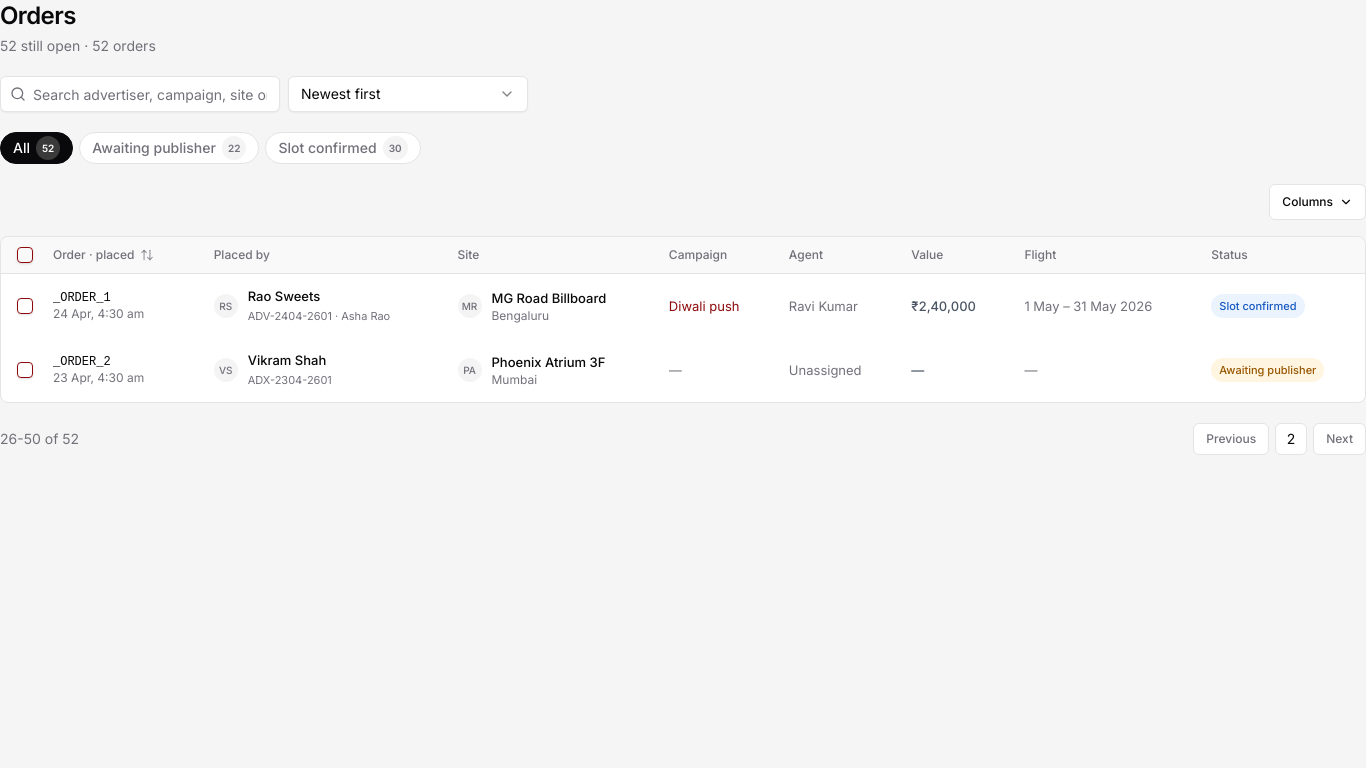
Scenario: held for review › holds the ticked orders with a reason through the bulk route, keeps the failure ticked and reloads
Click the checkbox named "Select all rows".
click(25, 255)  # box x1=17 y1=247 x2=33 y2=263
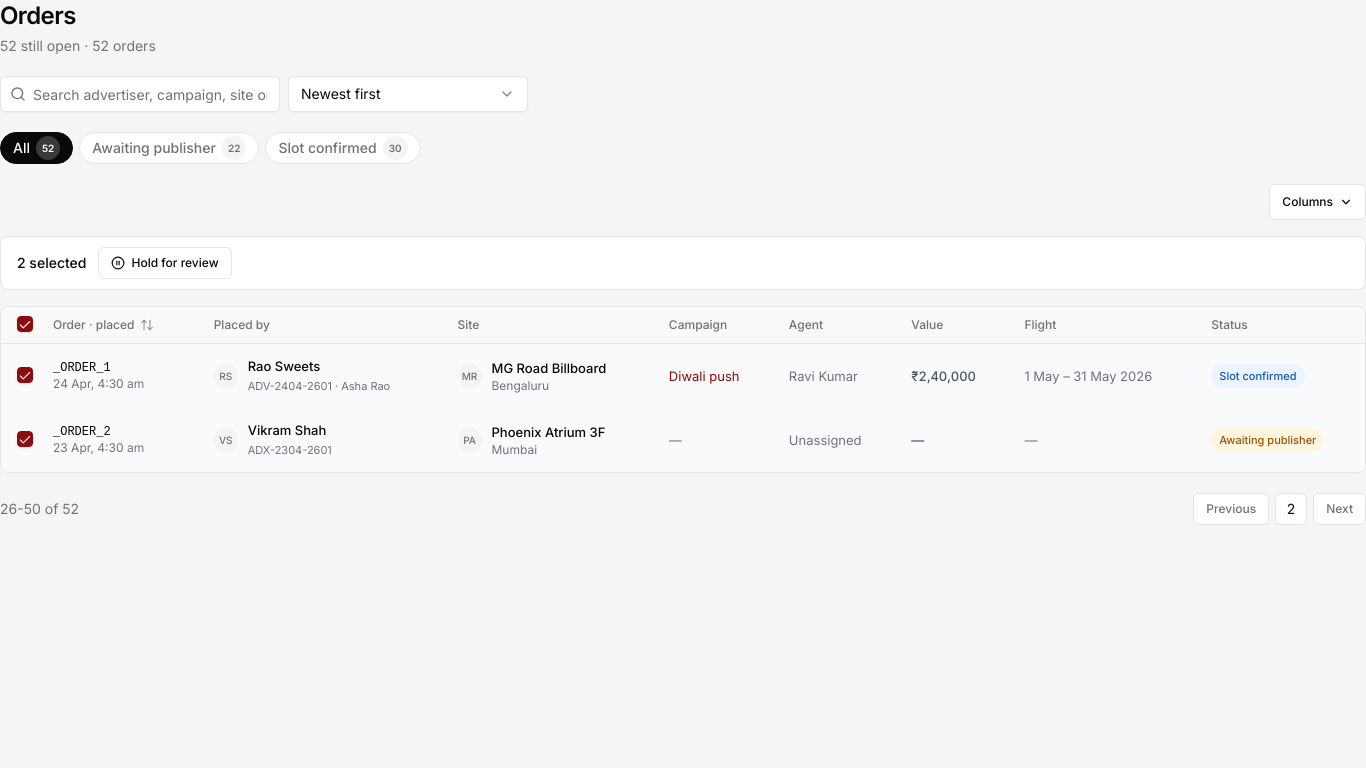
Click the button with test id "bulk-hold".
click(165, 263)  # box x1=98 y1=247 x2=232 y2=279
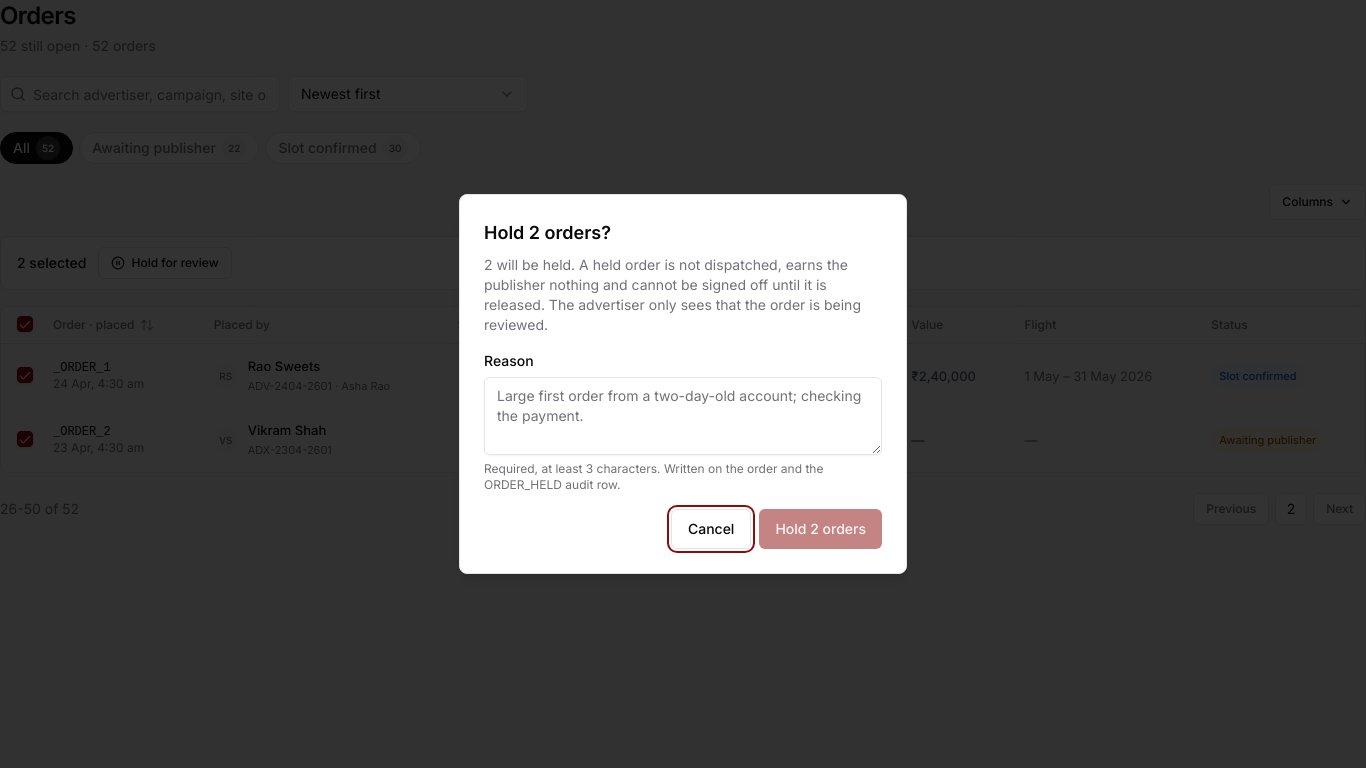
Check: the button "Hold 2 orders" is disabled, box x1=759 y1=509 x2=882 y2=549
Replace the text in the text box labelled "Reason" with "Same card on both" at (683, 416), box x1=484 y1=377 x2=882 y2=455
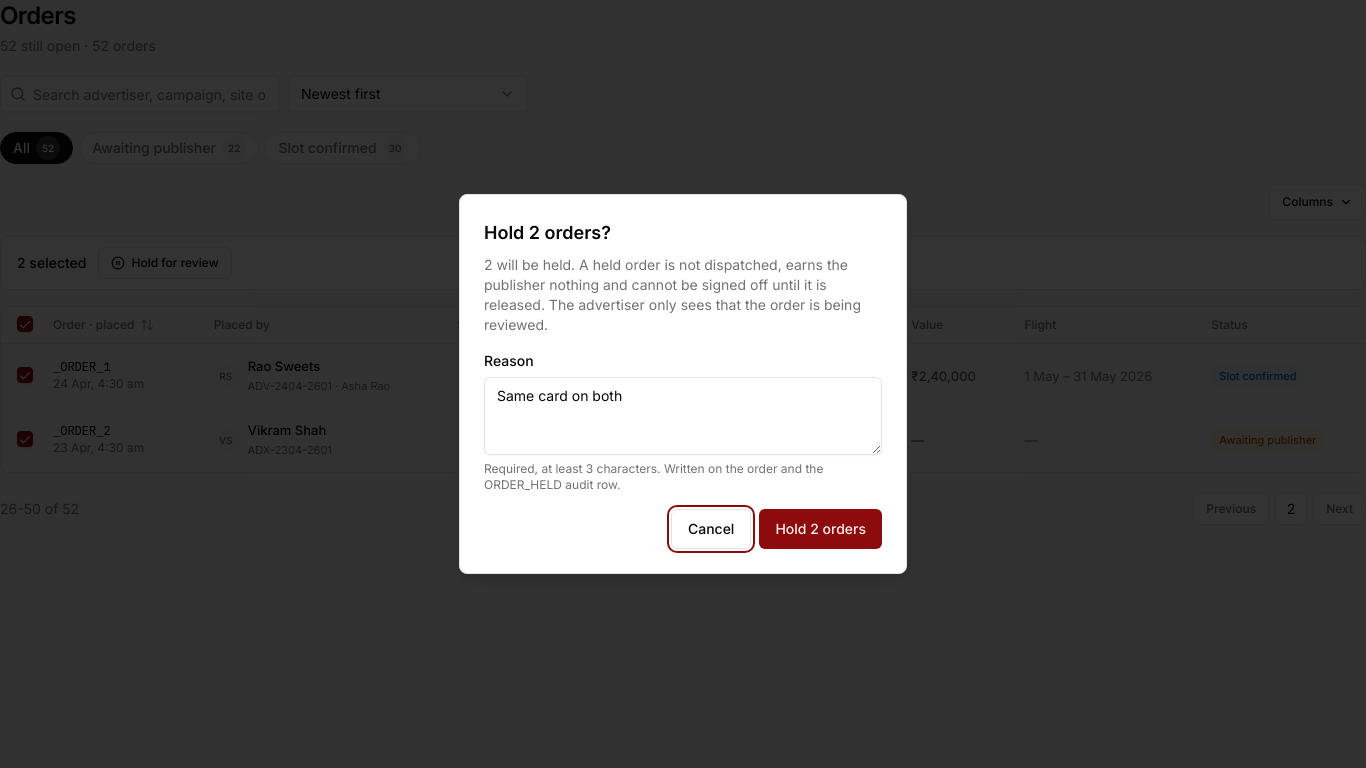
Click the button "Hold 2 orders".
click(821, 529)  # box x1=759 y1=509 x2=882 y2=549
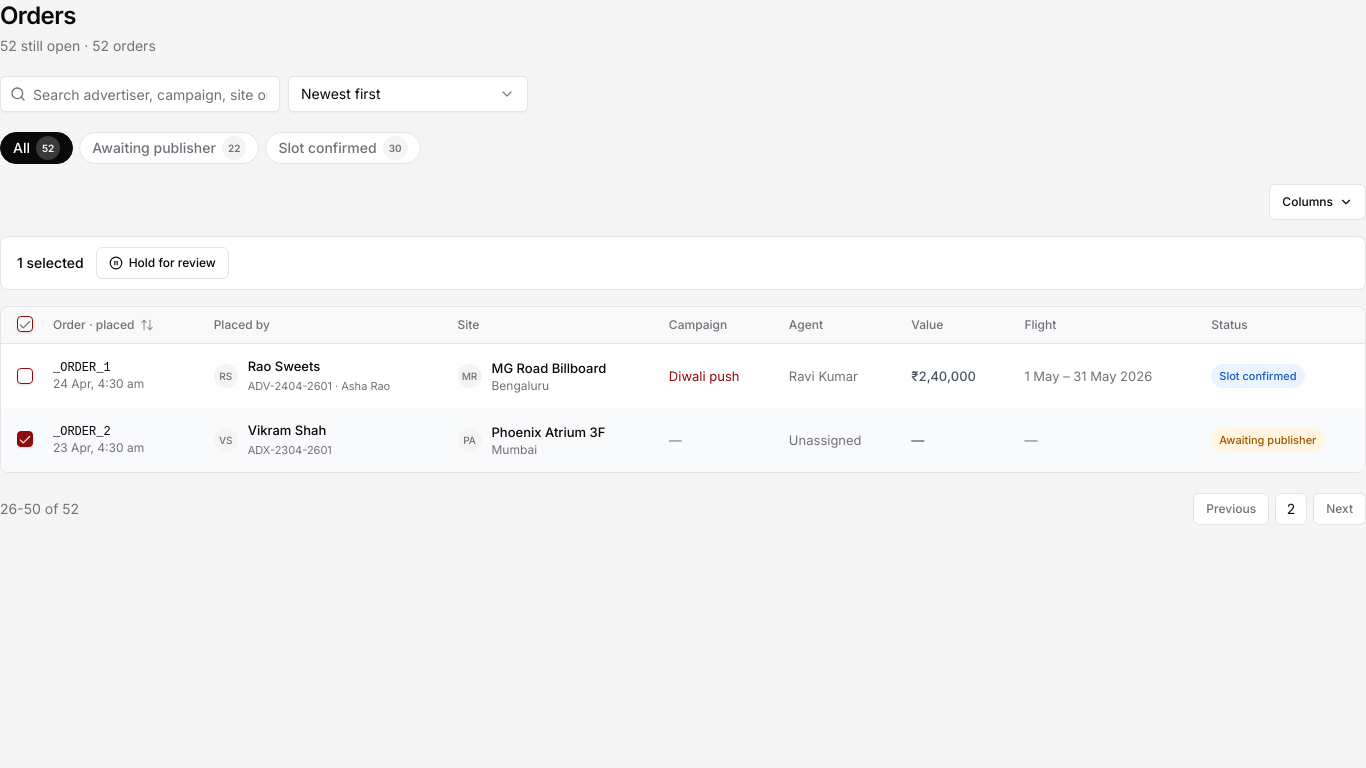
Check: the checkbox named "Select row" next to "_ORDER_2" is checked, box x1=17 y1=430 x2=33 y2=446
Check: the text "1 selected" is shown, box x1=17 y1=253 x2=84 y2=273
